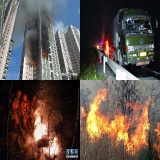fire: (80, 91, 149, 153), (35, 115, 47, 140), (152, 121, 159, 158), (48, 139, 58, 155), (30, 58, 38, 69), (42, 49, 49, 61), (104, 40, 109, 56), (21, 60, 24, 66)
